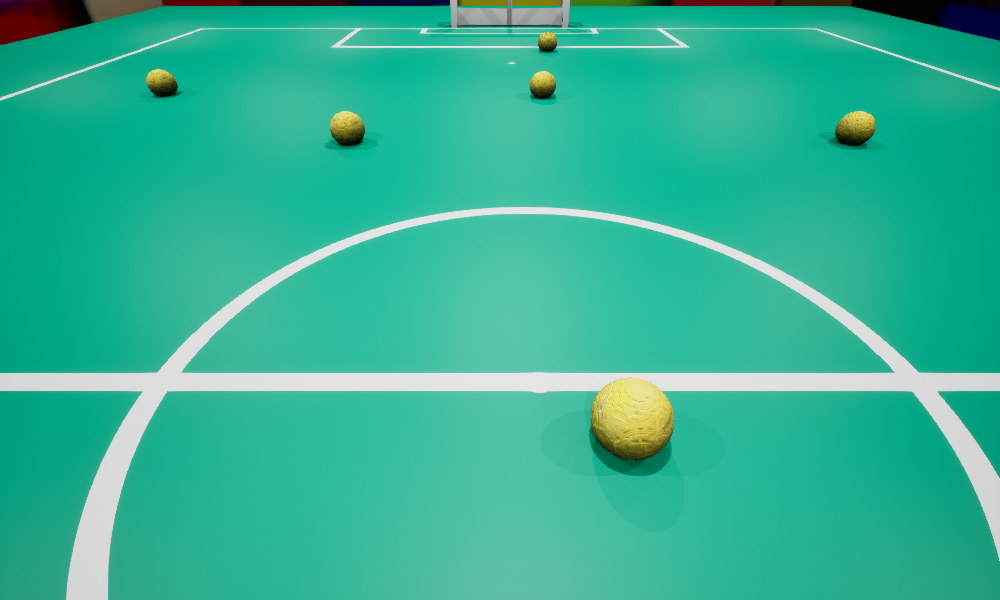b: (590, 377, 673, 460), (835, 111, 875, 144), (330, 111, 364, 144), (146, 69, 177, 95), (530, 71, 555, 97), (538, 31, 556, 51)
g: (450, 0, 569, 27)
